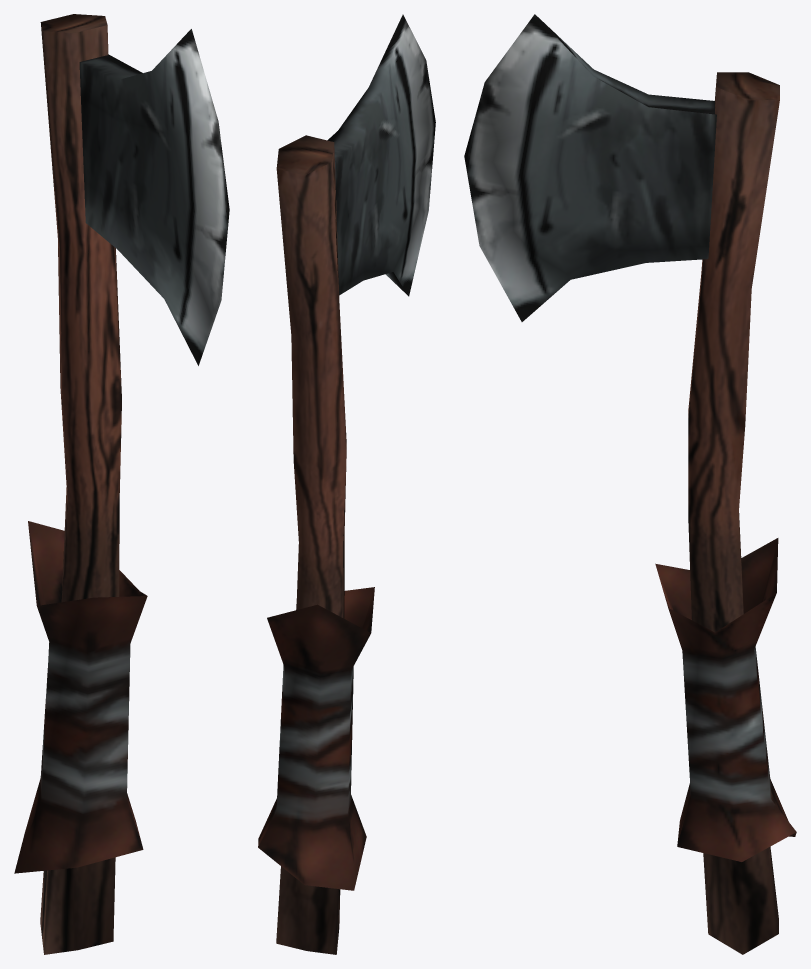
File: WP_1H_Axe01.FBX
3 renders of one model, left to right at view 1: azimuth 30°, elevation 25°; view 2: azimuth 150°, elevation 25°; view 3: azimuth 270°, elevation 25°, orthographic. The views are drawn at different scales.
Visible parts, largest first — view 1: WP_1H_Axe01; view 2: WP_1H_Axe01; view 3: WP_1H_Axe01.
Part boxes in pixels (x1=…): WP_1H_Axe01: x1=14, y1=14, x2=229, y2=954; WP_1H_Axe01: x1=258, y1=14, x2=435, y2=954; WP_1H_Axe01: x1=464, y1=14, x2=796, y2=954.
Bounding box in the file's own units: 9.82 × 80.7 × 26.23.
